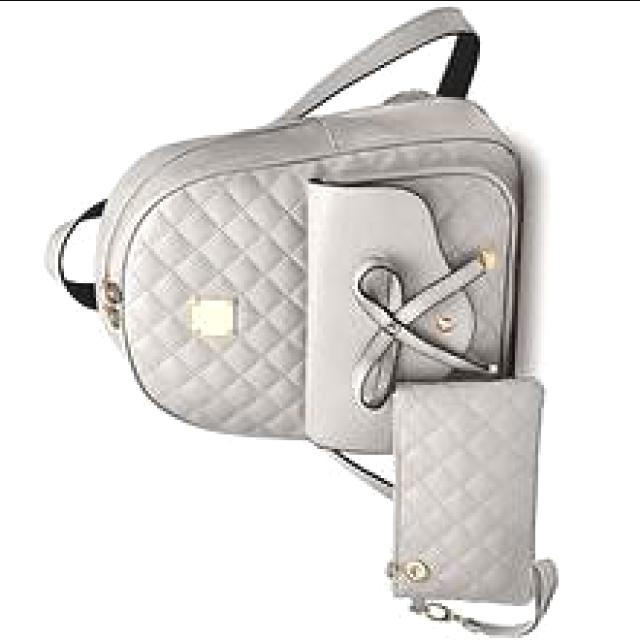backpack: (48, 21, 550, 457)
